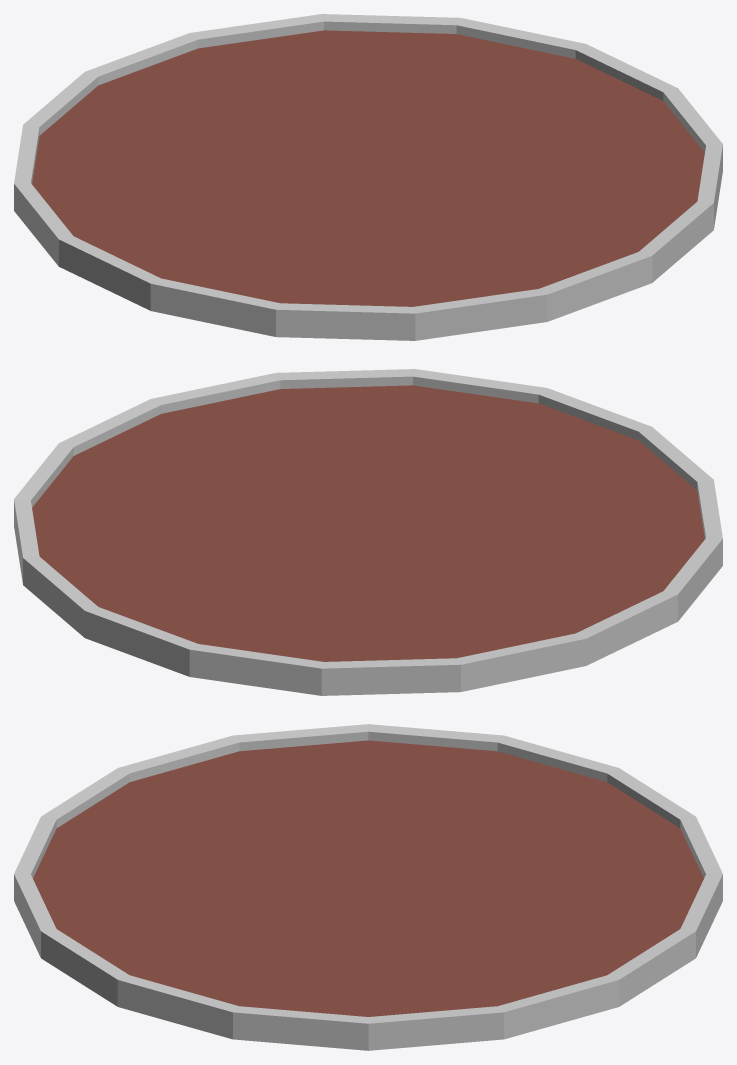
File: Shield_1_a_r.fbx
3 renders of one model, top to bottom at view 1: azimuth 30°, elevation 25°; view 2: azimuth 150°, elevation 25°; view 3: azimuth 270°, elevation 25°, orthographic.
Visible parts, largest first — view 1: Circle.066, Circle.091; view 2: Circle.066, Circle.091; view 3: Circle.066, Circle.091.
Part boxes in pixels (x1,y1,x2,y2): Circle.066: (32, 30, 704, 306); Circle.091: (14, 14, 722, 340); Circle.066: (32, 385, 704, 661); Circle.091: (14, 369, 722, 695); Circle.066: (33, 740, 703, 1016); Circle.091: (14, 724, 722, 1050).
Size of the model in its own units: 73.5 by 14.17 by 73.5.
